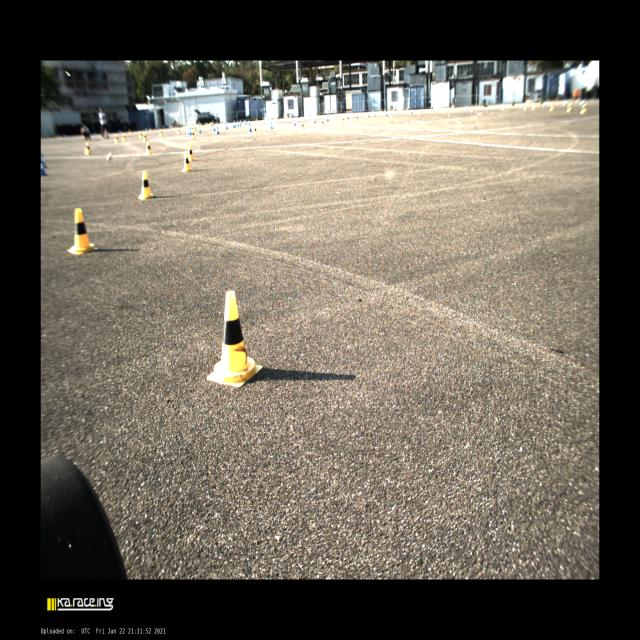blue_cone: (248, 123, 252, 132), (198, 126, 202, 133), (216, 126, 219, 134), (293, 119, 296, 125), (271, 121, 273, 129), (226, 122, 228, 130), (314, 117, 316, 123), (327, 116, 329, 122)
yellow_cone: (206, 290, 262, 388), (67, 208, 98, 254), (138, 171, 153, 200), (182, 153, 192, 172), (188, 145, 195, 161), (84, 141, 92, 155), (144, 141, 152, 155), (121, 132, 126, 141), (143, 131, 147, 141), (114, 134, 118, 142), (159, 129, 163, 137), (191, 132, 195, 140), (254, 126, 257, 135), (342, 116, 345, 124), (321, 119, 324, 126), (302, 120, 304, 129)
